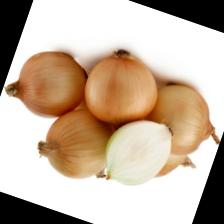onion: (74, 41, 168, 138), (29, 96, 122, 189), (132, 74, 224, 168), (0, 37, 95, 128), (94, 106, 179, 198)
